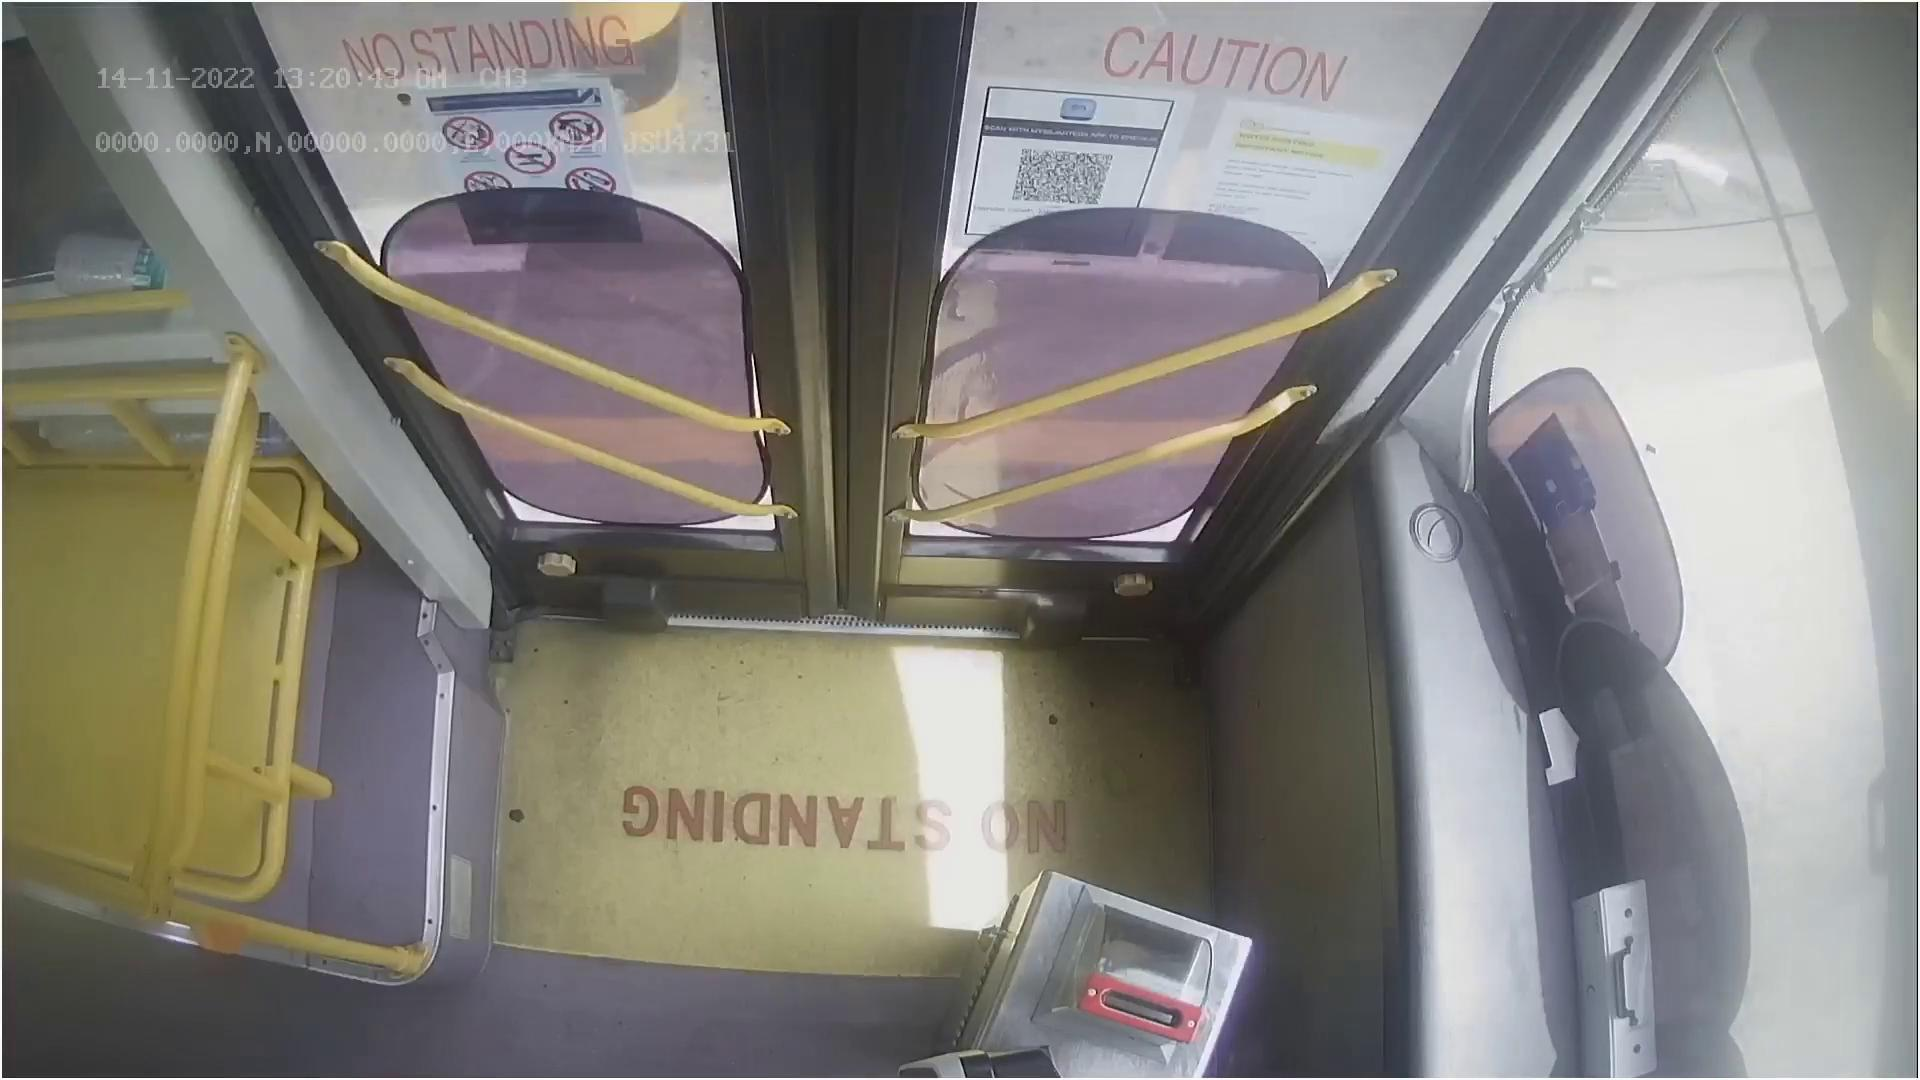close: (290, 0, 1447, 152)
